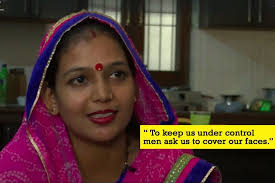indian_female: (39, 17, 162, 164)
